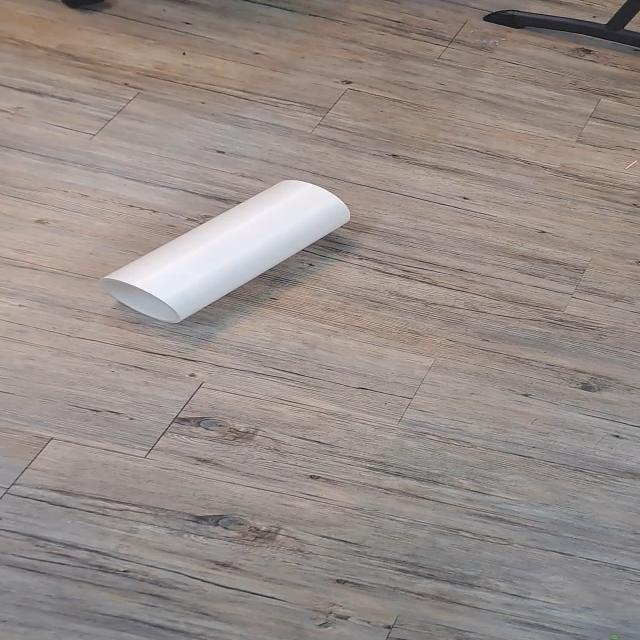CORAL: (96, 169, 367, 350)
